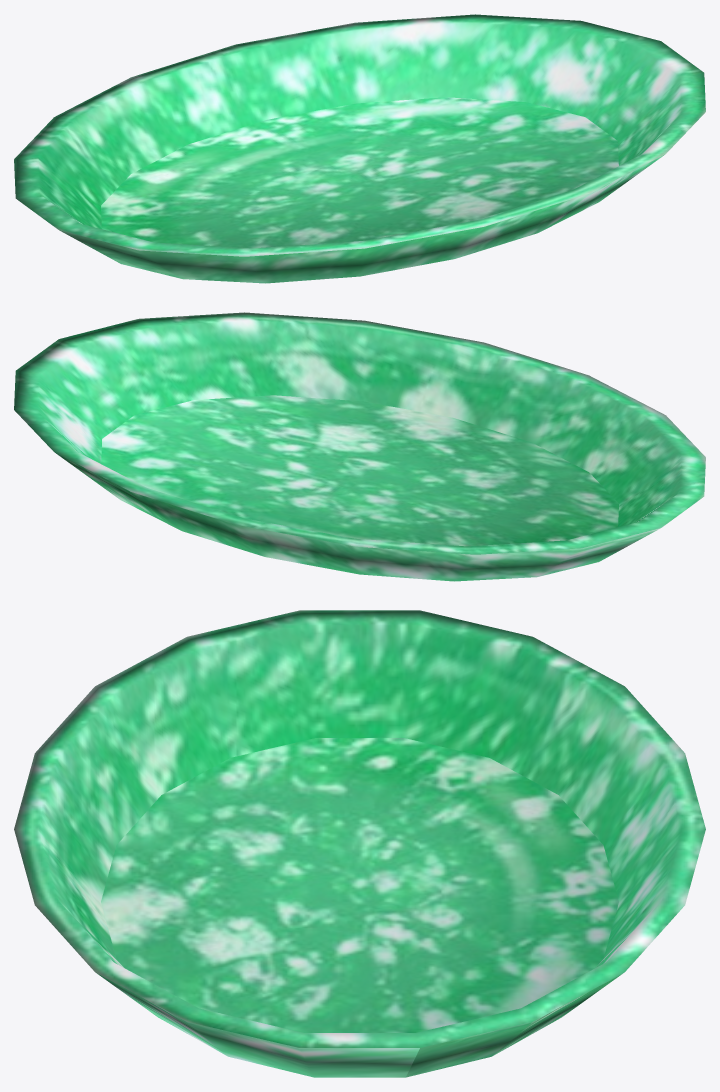
The model's file is Tteokbokki_Dish.fbx.
3 renders of one model, top to bottom at view 1: azimuth 30°, elevation 25°; view 2: azimuth 150°, elevation 25°; view 3: azimuth 270°, elevation 25°, orthographic. The views are drawn at different scales.
Visible parts, largest first — view 1: Dish; view 2: Dish; view 3: Dish.
Part boxes in pixels (x1,y1,x2,y2): Dish: (14,14,705,283); Dish: (14,312,705,581); Dish: (14,610,705,1077).
Bounding box in the file's own units: 48.35 × 3.87 × 32.3.
1 material, 1 textured.
